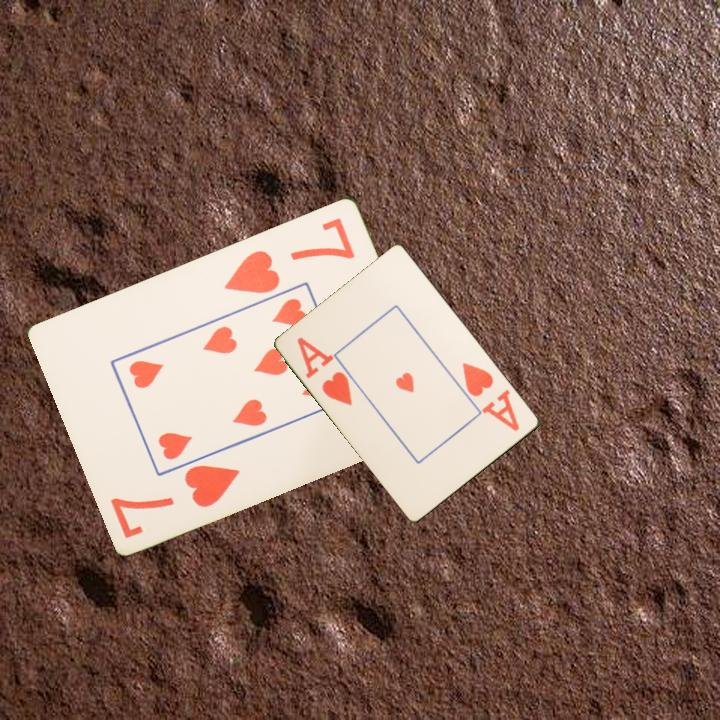7h: (220, 213, 358, 296), (107, 460, 243, 541)
Ah: (459, 358, 523, 434), (294, 333, 356, 409)
